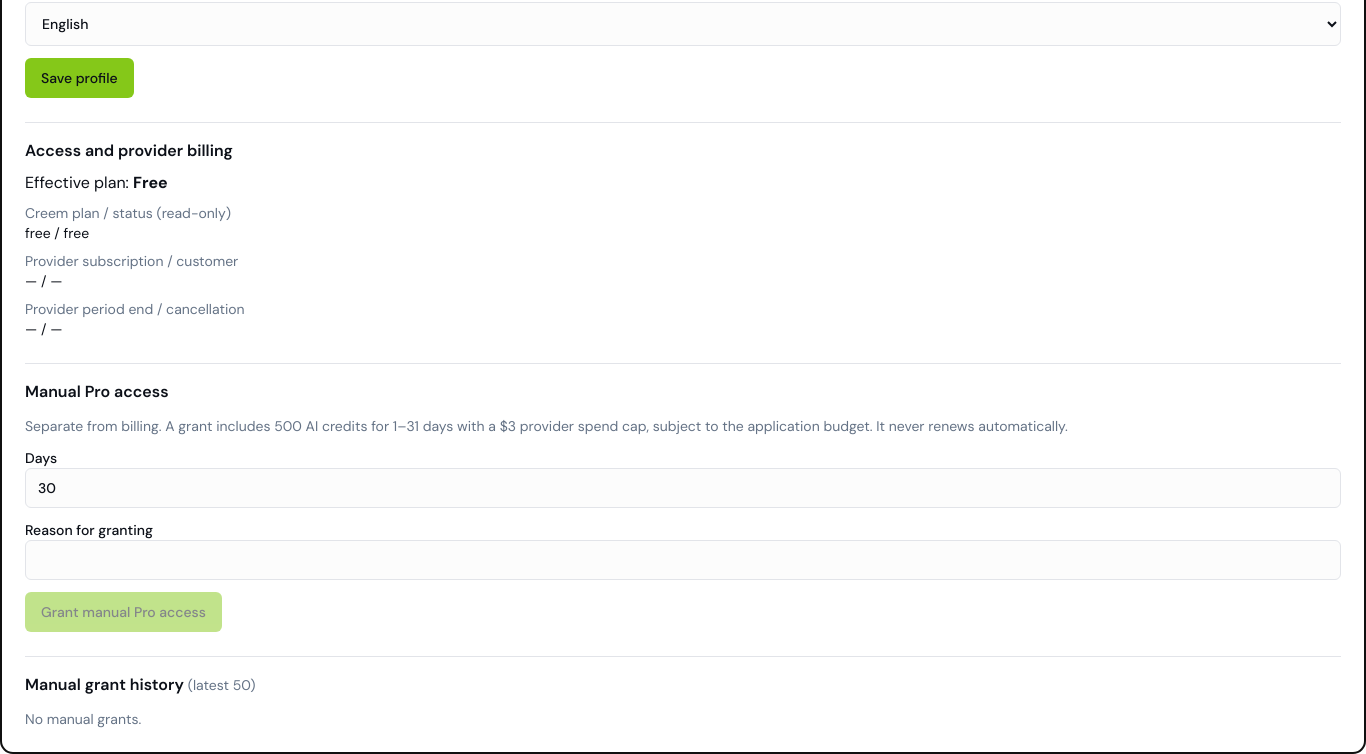
Scenario: Admin user edits and manual allowance › reconciles a grant conflict into the existing active allowance without retrying the rejected grant
(page scrolled)
In the field labelled "Reason for granting": [683, 560] box [25, 540, 1341, 580], type "Support trial"
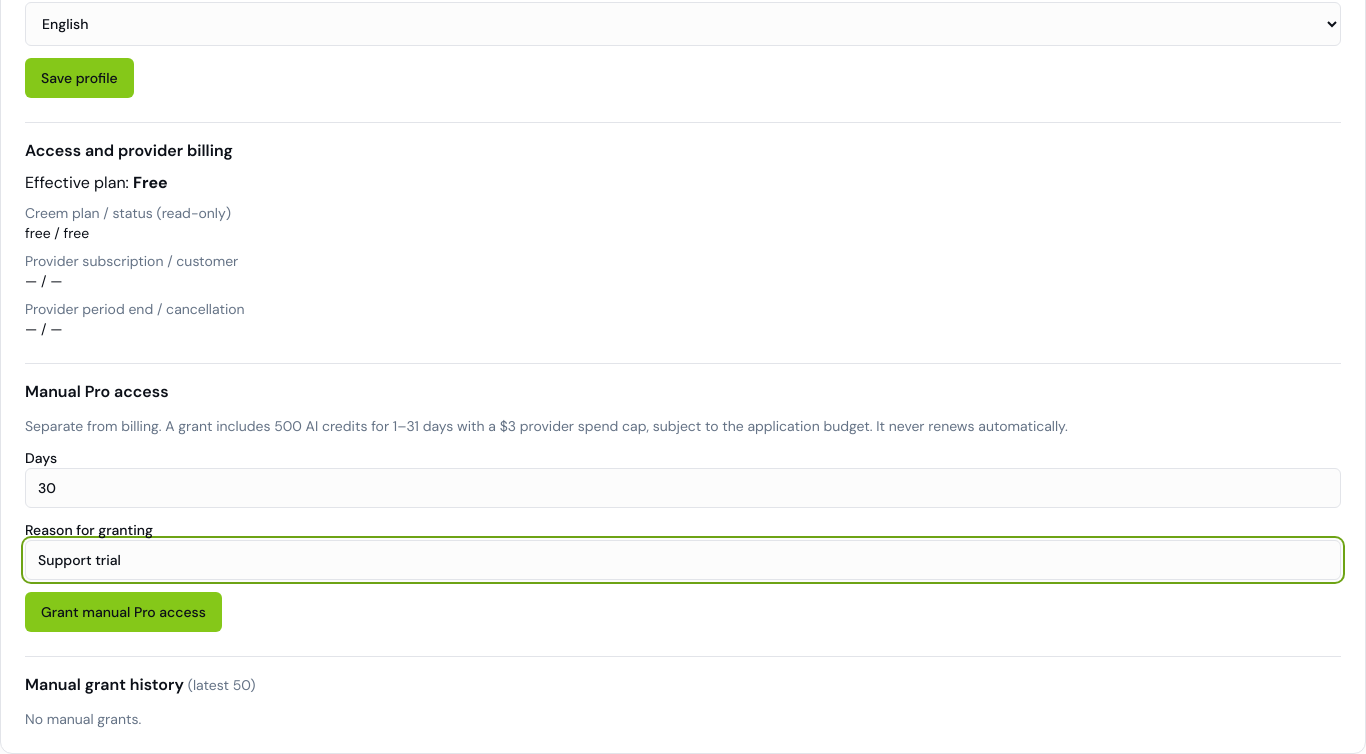
Click the button "Grant manual Pro access": [123, 612] box [25, 592, 222, 632]
(page scrolled)
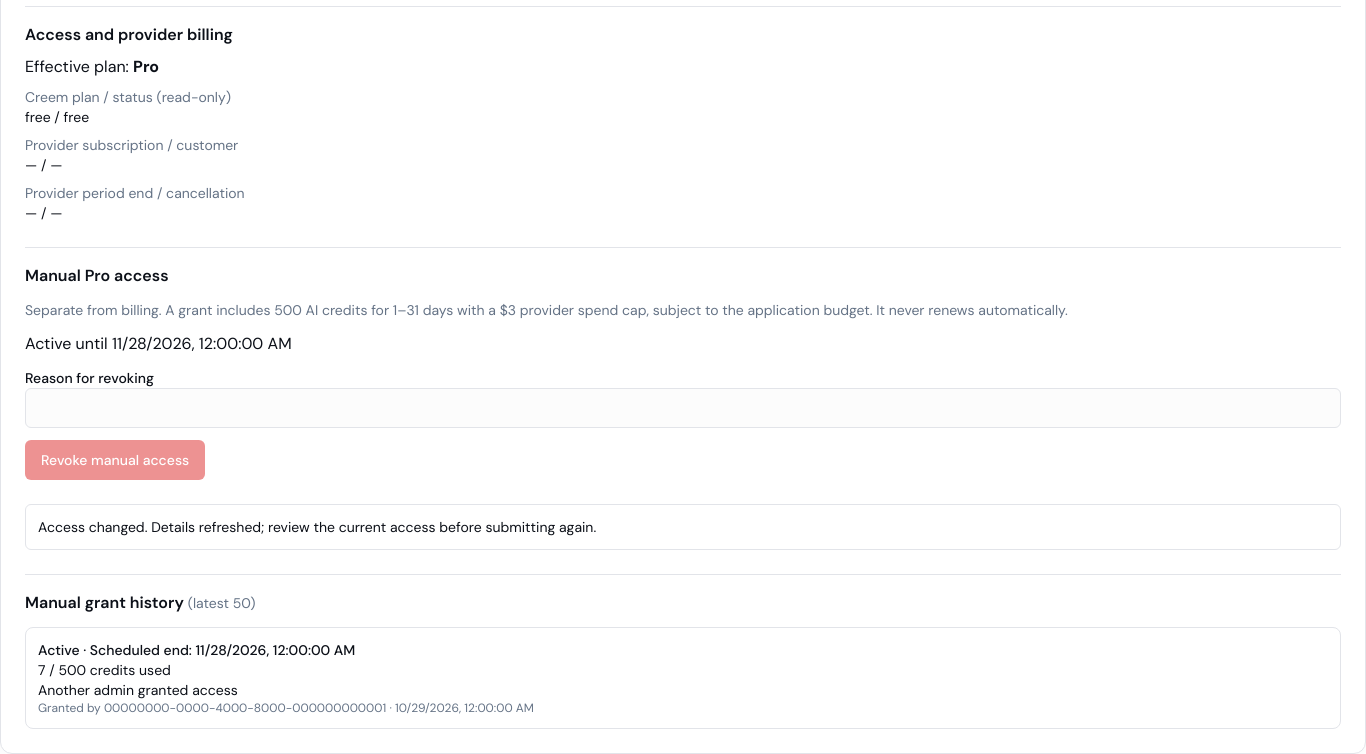
Expected: the field labelled "Reason for revoking" is shown, [25, 388, 1341, 428]
Expected: the text "Details refreshed" is shown, [38, 518, 596, 536]
Expected: the text "Another admin granted access" is shown, [38, 681, 238, 699]
